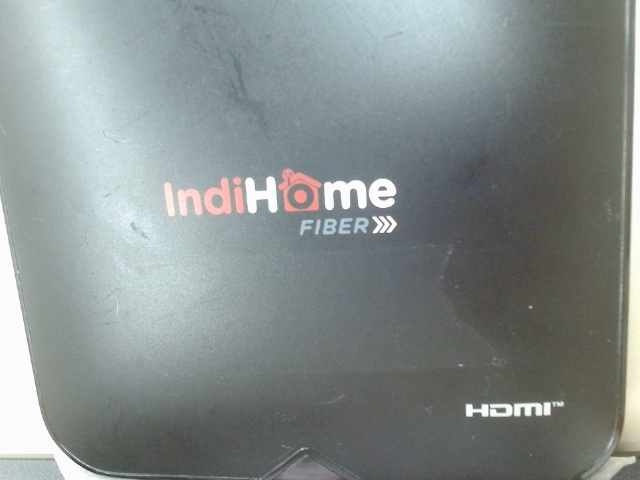AF_IndiHome: (151, 161, 409, 244)
